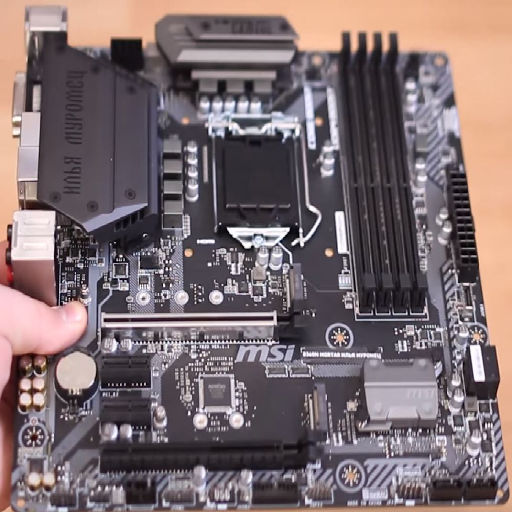CPU: (208, 128, 302, 248)
GPU: (99, 431, 328, 468), (99, 304, 310, 338)
MOTHERBOARD: (14, 24, 509, 508)
RAM: (337, 28, 430, 316)
SSD: (304, 383, 329, 434), (280, 262, 309, 305)
